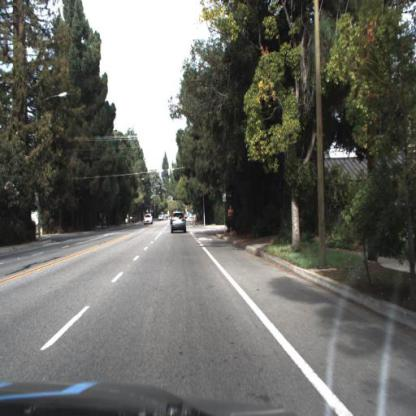car: (170, 210, 188, 236), (144, 210, 156, 232)
pedestrian: (224, 203, 235, 234), (227, 203, 235, 239)
